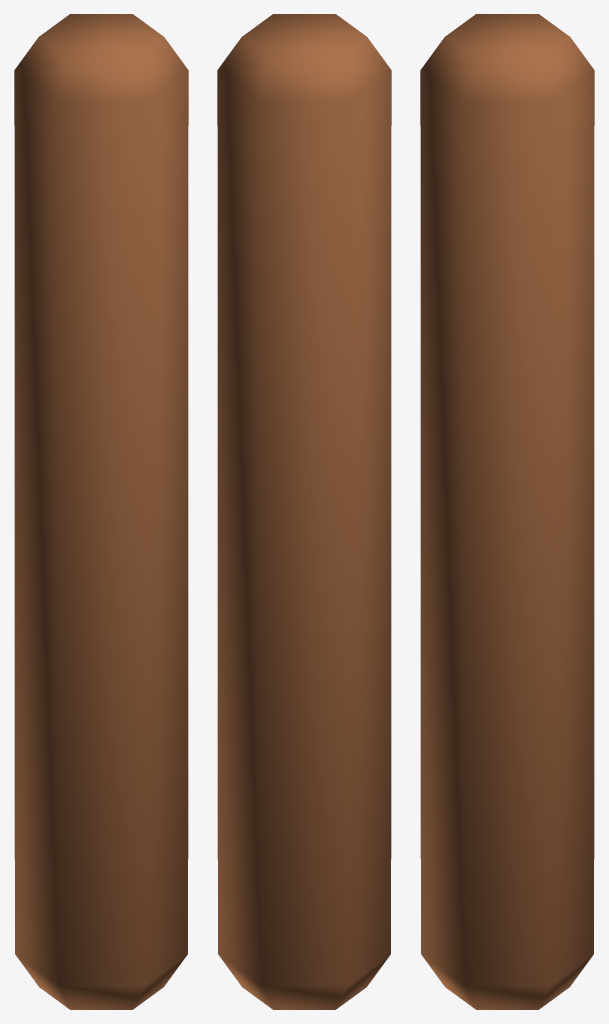
The model's file is Wood.fbx.
3 views of the same model, side by side, from view 1: azimuth 30°, elevation 25°; view 2: azimuth 150°, elevation 25°; view 3: azimuth 270°, elevation 25° (orthographic).
Parts seen in each view (by area): view 1: Tree; view 2: Tree; view 3: Tree.
Boxes of the visible parts, left/top/right/bottom form: Tree: left=14, top=14, right=188, bottom=1009; Tree: left=217, top=14, right=391, bottom=1009; Tree: left=420, top=14, right=594, bottom=1009.
Bounding box in the file's own units: 25.16 × 175 × 29.05.
